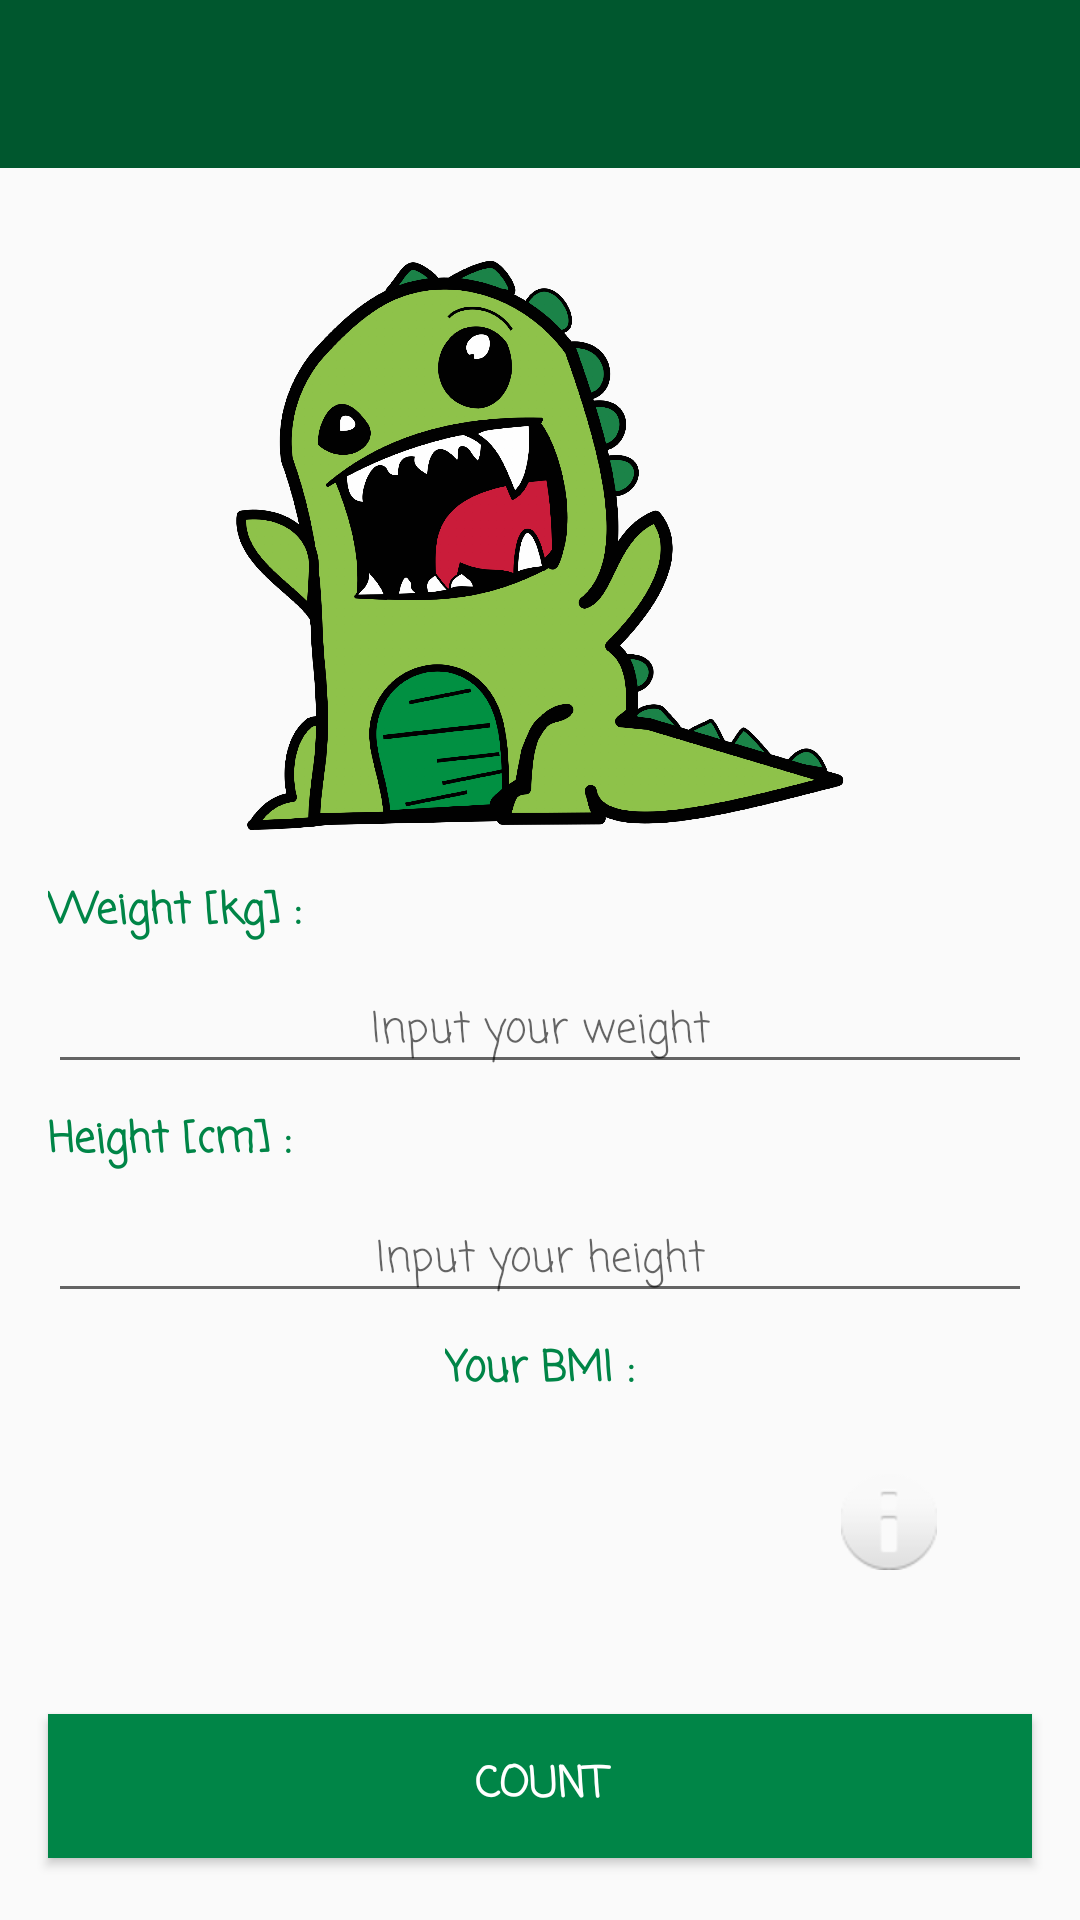

Named icons in this screenshot (1080px×1920px) and their centers, point (x, y):
info: point (889, 1531)
